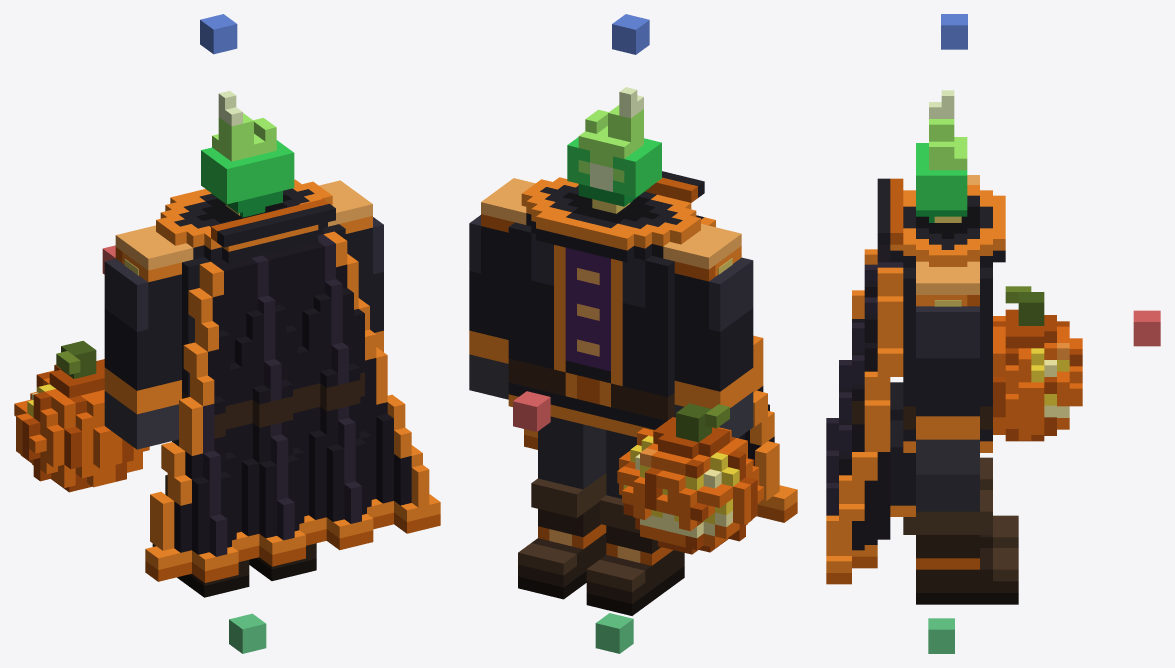
The model's file is HeadlessoZuccone.glb.
3 views of the same model, side by side, from view 1: azimuth 30°, elevation 25°; view 2: azimuth 150°, elevation 25°; view 3: azimuth 270°, elevation 25° (orthographic). The views are drawn at different scales.
Parts seen in each view (by area): view 1: HeadlessoZuccone_Body, HeadlessoZuccone_Arm5, HeadlessoZuccone_Head3, HeadlessoZuccone_Arm4, HeadlessoZuccone_Top, HeadlessoZuccone_Built, HeadlessoZuccone_Leg2, HeadlessoZuccone_Leg1; view 2: HeadlessoZuccone_Body, HeadlessoZuccone_Arm5, HeadlessoZuccone_Leg1, HeadlessoZuccone_Leg2, HeadlessoZuccone_Head3, HeadlessoZuccone_Arm4, HeadlessoZuccone_Built, HeadlessoZuccone_Top, HeadlessoZuccone_Front; view 3: HeadlessoZuccone_Body, HeadlessoZuccone_Leg1, HeadlessoZuccone_Arm5, HeadlessoZuccone_Arm4, HeadlessoZuccone_Head3, HeadlessoZuccone_Leg2, HeadlessoZuccone_Front, HeadlessoZuccone_Top, HeadlessoZuccone_Built.
Boxes of the visible parts, <box> form: HeadlessoZuccone_Body: <box>115,179,440,582</box>; HeadlessoZuccone_Arm5: <box>14,258,181,492</box>; HeadlessoZuccone_Head3: <box>201,90,294,217</box>; HeadlessoZuccone_Arm4: <box>345,217,383,351</box>; HeadlessoZuccone_Top: <box>200,14,237,54</box>; HeadlessoZuccone_Built: <box>229,613,266,653</box>; HeadlessoZuccone_Leg2: <box>152,439,249,597</box>; HeadlessoZuccone_Leg1: <box>249,543,316,580</box>; HeadlessoZuccone_Body: <box>481,171,797,522</box>; HeadlessoZuccone_Arm5: <box>617,257,763,554</box>; HeadlessoZuccone_Leg1: <box>518,416,606,599</box>; HeadlessoZuccone_Leg2: <box>586,430,684,615</box>; HeadlessoZuccone_Head3: <box>567,87,661,206</box>; HeadlessoZuccone_Arm4: <box>469,215,508,399</box>; HeadlessoZuccone_Built: <box>595,613,633,653</box>; HeadlessoZuccone_Top: <box>612,14,649,54</box>; HeadlessoZuccone_Front: <box>513,391,550,431</box>; HeadlessoZuccone_Body: <box>826,175,1005,584</box>; HeadlessoZuccone_Leg1: <box>903,474,1018,604</box>; HeadlessoZuccone_Arm5: <box>993,286,1082,441</box>; HeadlessoZuccone_Arm4: <box>916,306,979,474</box>; HeadlessoZuccone_Head3: <box>916,90,967,222</box>; HeadlessoZuccone_Leg2: <box>980,457,1018,547</box>; HeadlessoZuccone_Front: <box>1133,310,1160,346</box>; HeadlessoZuccone_Top: <box>941,14,967,49</box>; HeadlessoZuccone_Built: <box>928,618,954,653</box>.
Size of the model in its own units: 3.33 by 6.33 by 3.11.
Materials: 1 (1 with a texture image).
